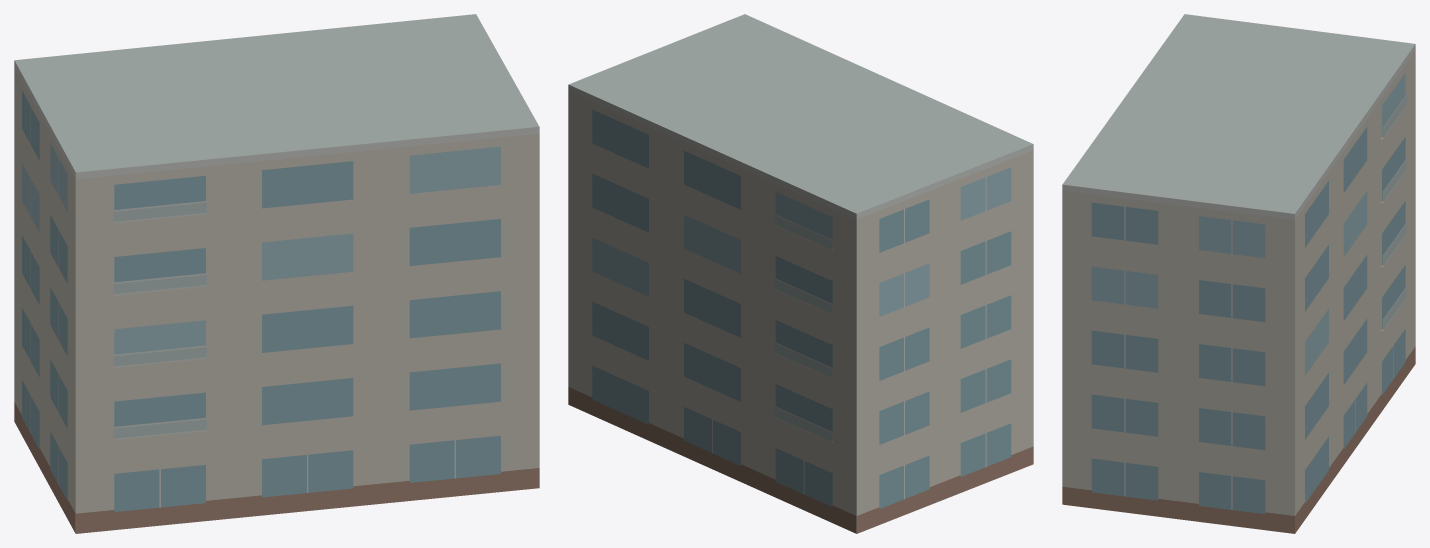
File: survey-upis-32875046.glb
3 renders of one model, left to right at view 1: azimuth 30°, elevation 25°; view 2: azimuth 150°, elevation 25°; view 3: azimuth 270°, elevation 25°, orthographic. The views are drawn at different scales.
Parts seen in each view (by area): view 1: survey-upis-32875046.tmp; view 2: survey-upis-32875046.tmp; view 3: survey-upis-32875046.tmp.
Part boxes in pixels (box(x1,y1,x2,y2)): survey-upis-32875046.tmp: box(14, 14, 539, 533); survey-upis-32875046.tmp: box(568, 14, 1033, 533); survey-upis-32875046.tmp: box(1062, 14, 1415, 533).
Bounding box in the file's own units: 17.38 × 12.96 × 12.98.
